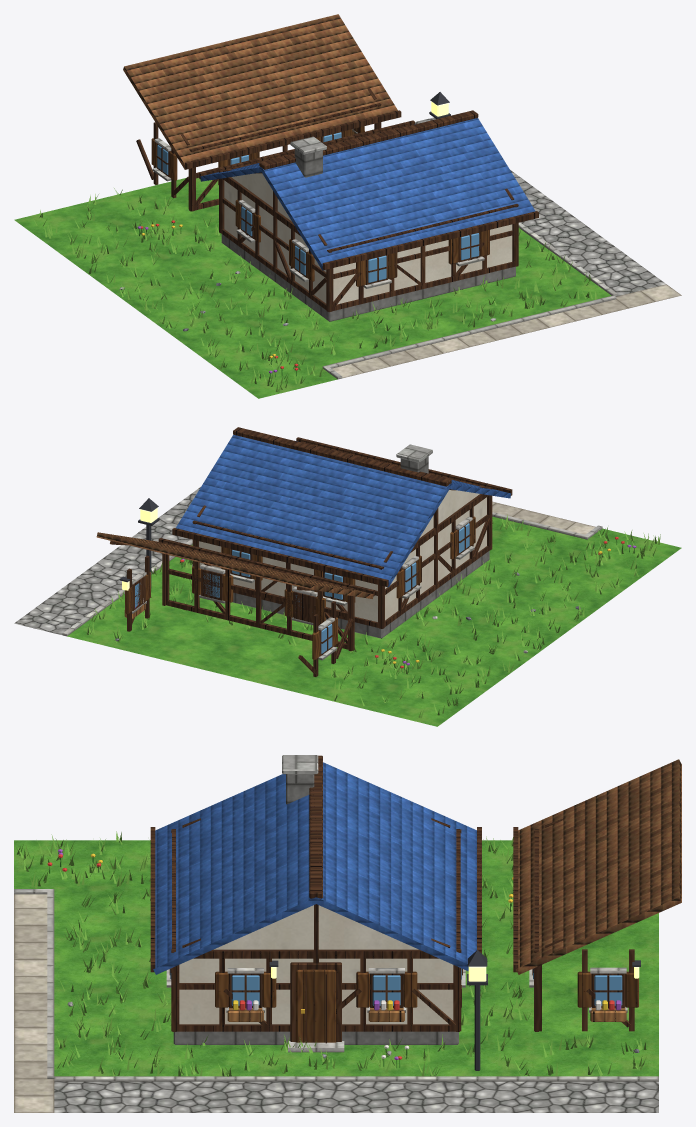
File: chunk_5_10.glb
3 renders of one model, top to bottom at view 1: azimuth 30°, elevation 25°; view 2: azimuth 150°, elevation 25°; view 3: azimuth 270°, elevation 25°, orthographic. The views are drawn at different scales.
Parts seen in each view (by area): view 1: chunk_5_10; view 2: chunk_5_10; view 3: chunk_5_10.
Boxes of the visible parts, left/top/right/bottom form: chunk_5_10: left=14, top=14, right=681, bottom=398; chunk_5_10: left=14, top=427, right=681, bottom=726; chunk_5_10: left=14, top=755, right=681, bottom=1112.
Size of the model in its own units: 16.11 by 4.99 by 16.57.
Materials: 24 (15 with a texture image).
